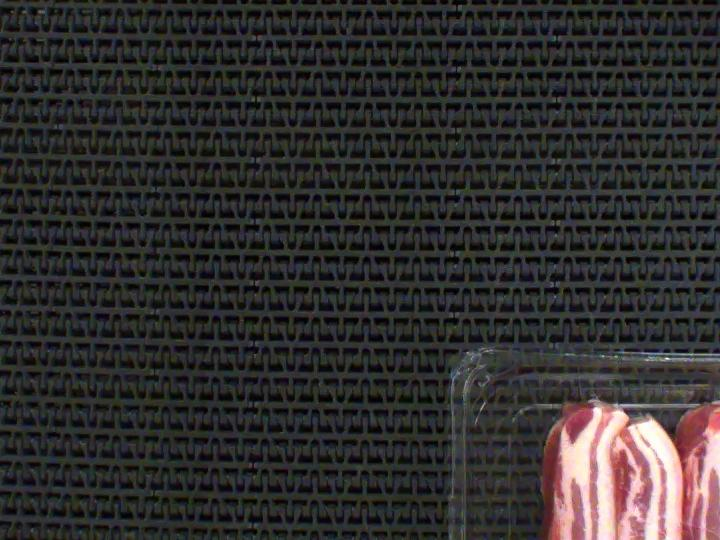packaging-error: (696, 378, 720, 403)
